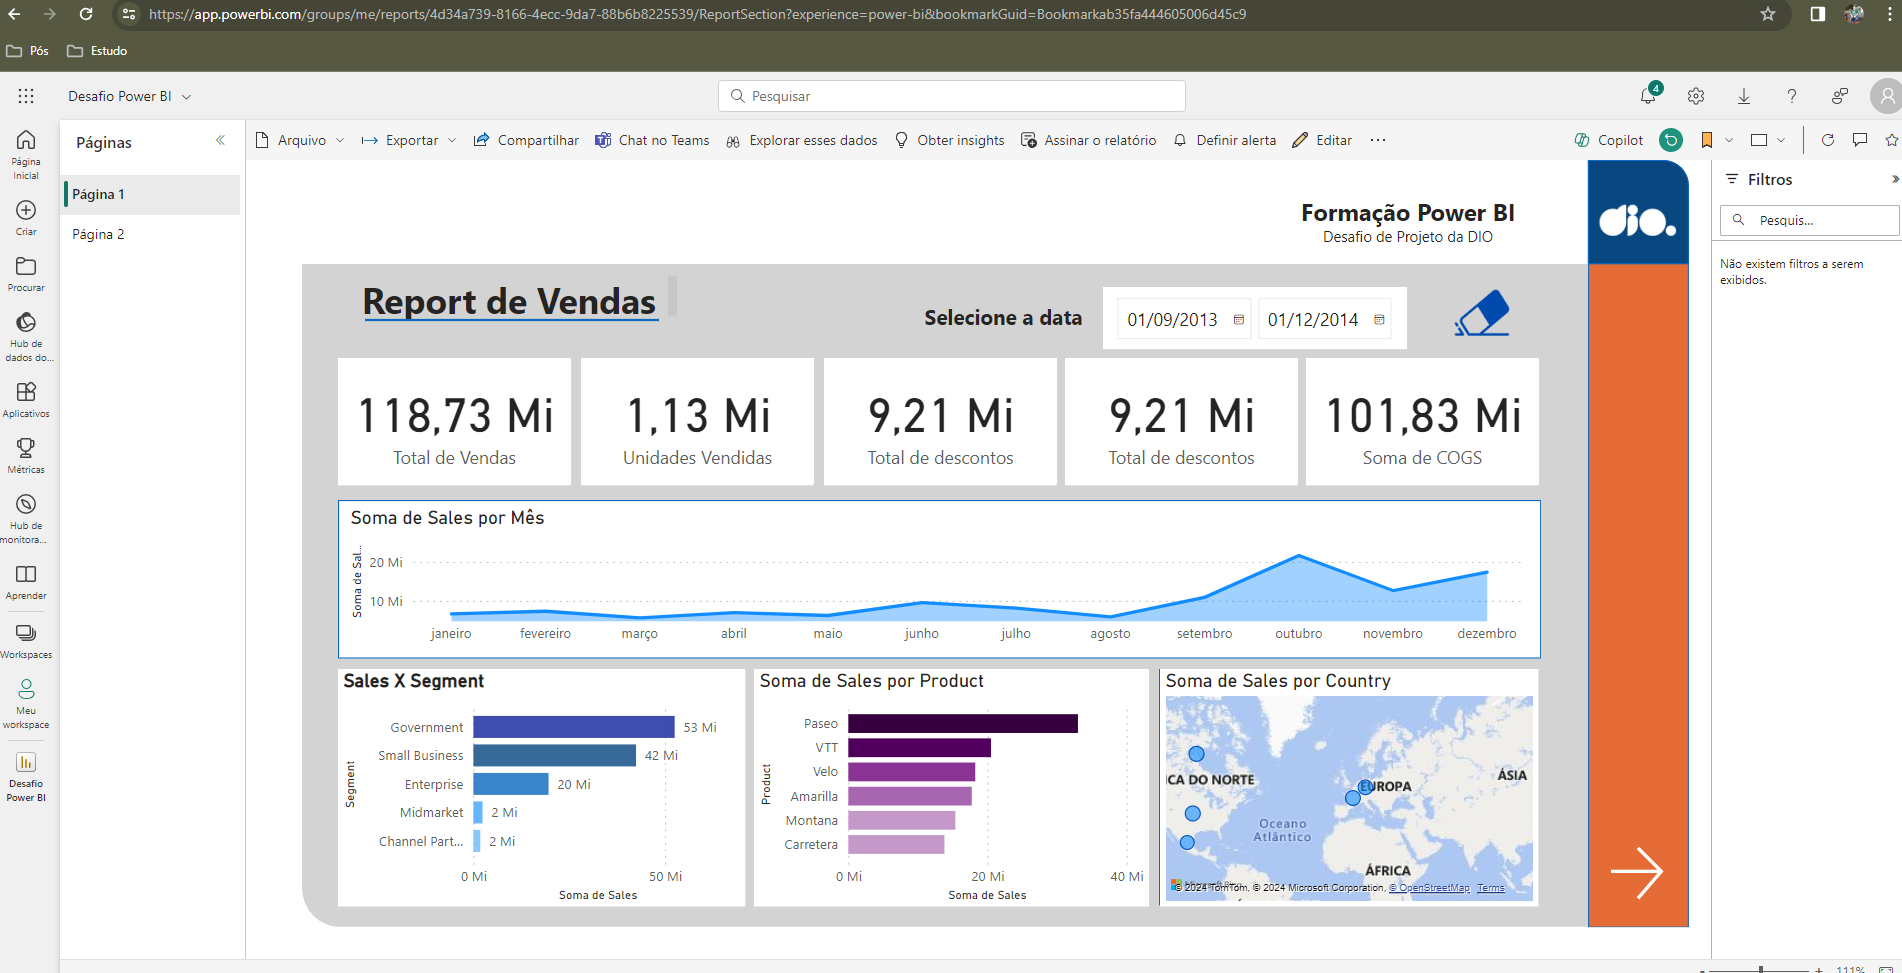

What the dashboard file says about the page in this screenshot:
{"tool":"powerbi","page":{"name":"Página 1","canvas":[1280,720],"ordinal":0},"visuals":[{"type":"shape","box":[31,0,1249,691.5],"z":0},{"type":"slicer","fields":{"Values":["financials.Date"]},"box":[752.4,114.9,273.8,56],"z":0,"group":"g3"},{"type":"shape","box":[63.2,179,209.4,113.8],"z":0,"group":"g1"},{"type":"shape","box":[63,459,366.7,212.8],"z":0,"group":"g2"},{"type":"shape","box":[1189.1,15,90.9,676.5],"z":1000},{"type":"textbox","box":[586.5,123.9,165.9,37],"z":1000,"group":"g3"},{"type":"shape","box":[282,179,209.4,113.8],"z":1000,"group":"g1"},{"type":"shape","box":[437.6,459,356,213.1],"z":1000,"group":"g2"},{"type":"shape","box":[1189.1,0,90.9,93.9],"z":2000},{"type":"actionButton","box":[1062.1,110.9,64,57],"z":2000,"group":"g3"},{"type":"shape","box":[500.8,179,209.4,113.8],"z":2000,"group":"g1"},{"type":"shape","box":[803,459,341.1,213.5],"z":2000,"group":"g2"},{"type":"image","title":"Logo Dio","box":[1195.1,15,78.9,78.9],"z":3000},{"type":"shape","box":[718.6,179,209.4,113.8],"z":3000,"group":"g1"},{"type":"shape","box":[31,0,1158.1,93.9],"z":4000},{"type":"shape","box":[935.3,179,209.4,113.8],"z":4000,"group":"g1"},{"type":"group","id":"g1","title":"Cartões","box":[63.2,179,1081.6,113.8],"z":6000},{"type":"textbox","box":[68.7,98.9,304.9,50],"z":7000},{"type":"shape","box":[87.3,116.4,265.3,55.9],"z":8000},{"type":"image","title":"Clean","box":[1062.2,107.9,64,59],"z":9000},{"type":"shape","box":[63,306.8,1084.2,142.9],"z":10000},{"type":"group","id":"g2","title":"Grupo 1","box":[63,459,1081.1,213.5],"z":11000},{"type":"stackedAreaChart","fields":{"Category":["financials.Date.Variation.Hierarquia de datas.Mês"],"Y":["Sum(financials. Sales)"]},"box":[68.9,311.8,1068.2,132.9],"z":12000},{"type":"card","fields":{"Values":["Sum(financials. Sales)"]},"box":[63,178.9,209.8,113.9],"z":13000},{"type":"card","fields":{"Values":["Sum(financials.Units Sold)"]},"box":[281.8,178.9,209.8,113.9],"z":14000},{"type":"card","fields":{"Values":["Sum(financials.Discounts)"]},"box":[500.6,178.9,209.8,113.9],"z":15000},{"type":"card","fields":{"Values":["Sum(financials.Discounts)"]},"box":[718.4,178.9,209.8,113.9],"z":16000},{"type":"card","fields":{"Values":["Sum(financials.COGS)"]},"box":[935.3,178.9,209.8,113.9],"z":17000},{"type":"clusteredBarChart","title":"Sales X Segment","fields":{"Category":["financials.Segment"],"Y":["Sum(financials. Sales)"]},"box":[63,458.6,366.7,213.8],"z":18000},{"type":"clusteredBarChart","fields":{"Y":["Sum(financials. Sales)"],"Category":["financials.Product"]},"box":[437.7,458.6,355.7,213.8],"z":19000},{"type":"map","fields":{"Size":["Sum(financials. Sales)"],"Category":["financials.Country"]},"box":[803.4,458.6,340.7,213.8],"z":20000},{"type":"group","id":"g3","title":"Filtro por data","box":[586.5,110.9,539.6,60],"z":21000},{"type":"actionButton","box":[1203.3,612.4,63.2,59.8],"z":22000},{"type":"textbox","box":[889,26.8,275.8,54.7],"z":22001}]}

Visuals, with their boxes on the page's 1280x720 design canvas (x1, y1, x2, y2). These are canvas units, not pixel positions in the 1902x973 screenshot, which may show the page scaled, cropped or inside an application window:
shape: box(31, 0, 1280, 692)
slicer - financials.Date: box(752, 115, 1026, 171)
shape: box(63, 179, 273, 293)
shape: box(63, 459, 430, 672)
shape: box(1189, 15, 1280, 692)
textbox: box(586, 124, 752, 161)
shape: box(282, 179, 491, 293)
shape: box(438, 459, 794, 672)
shape: box(1189, 0, 1280, 94)
actionButton: box(1062, 111, 1126, 168)
shape: box(501, 179, 710, 293)
shape: box(803, 459, 1144, 672)
"Logo Dio" image: box(1195, 15, 1274, 94)
shape: box(719, 179, 928, 293)
shape: box(31, 0, 1189, 94)
shape: box(935, 179, 1145, 293)
"Cartões" group: box(63, 179, 1145, 293)
textbox: box(69, 99, 374, 149)
shape: box(87, 116, 353, 172)
"Clean" image: box(1062, 108, 1126, 167)
shape: box(63, 307, 1147, 450)
"Grupo 1" group: box(63, 459, 1144, 672)
stackedAreaChart - financials.Date.Variation.Hierarquia de datas.Mês x Sum(financials. Sales): box(69, 312, 1137, 445)
card - Sum(financials. Sales): box(63, 179, 273, 293)
card - Sum(financials.Units Sold): box(282, 179, 492, 293)
card - Sum(financials.Discounts): box(501, 179, 710, 293)
card - Sum(financials.Discounts): box(718, 179, 928, 293)
card - Sum(financials.COGS): box(935, 179, 1145, 293)
"Sales X Segment" clusteredBarChart: box(63, 459, 430, 672)
clusteredBarChart - Sum(financials. Sales) x financials.Product: box(438, 459, 793, 672)
map - Sum(financials. Sales) x financials.Country: box(803, 459, 1144, 672)
"Filtro por data" group: box(586, 111, 1126, 171)
actionButton: box(1203, 612, 1266, 672)
textbox: box(889, 27, 1165, 82)
